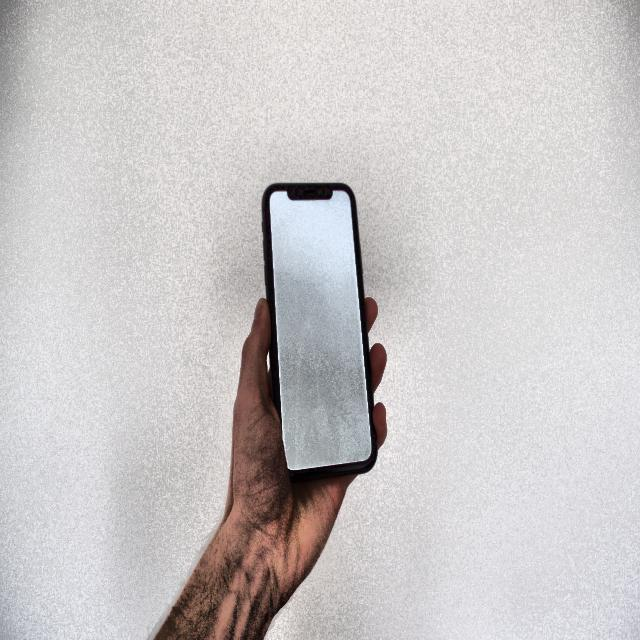Phone: (256, 177, 381, 489)
